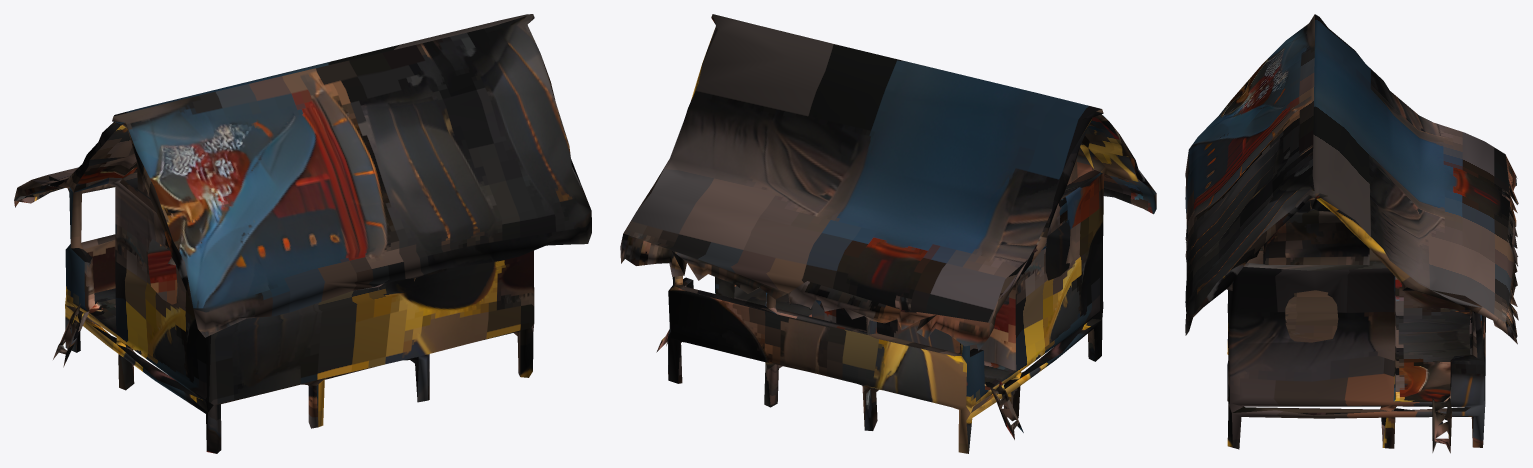
Rendered from kubo bahay.fbx.
The picture shows the model from 3 angles, left to right: view 1: azimuth 30°, elevation 25°; view 2: azimuth 150°, elevation 25°; view 3: azimuth 270°, elevation 25°; orthographic projection. The views are drawn at different scales.
Parts seen in each view (by area): view 1: model; view 2: model; view 3: model.
Boxes of the visible parts, x1,y1,x2,y2 form: model: (14,14,591,453); model: (620,14,1156,453); model: (1185,14,1518,453).
Bounding box in the file's own units: 3855 × 2759 × 3002.
